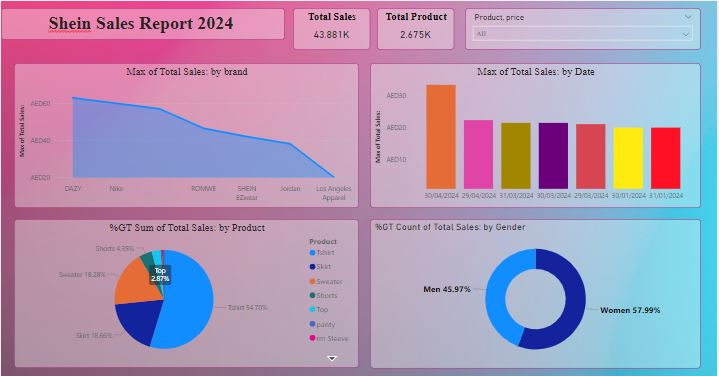

The dashboard page shown, as its layout file describes it:
{"tool":"powerbi","page":{"name":"Page 1","canvas":[1280,720],"ordinal":0},"visuals":[{"type":"clusteredColumnChart","fields":{"Y":["Max(Sheet1.Total Sales:)"],"Category":["Sheet1.Date"]},"box":[658.5,157.9,591.3,258.7],"z":0},{"type":"donutChart","fields":{"Y":["Sum(Sheet1.Total Sales:)"],"Category":["Sheet1.Gender"]},"box":[658.5,435.1,591.3,267.1],"z":1000},{"type":"pieChart","fields":{"Y":["Sum(Sheet1.Total Sales:)"],"Category":["Sheet1.Product"]},"box":[23.2,435.7,616.1,266.1],"z":2000},{"type":"card","title":"Total Product","fields":{"Values":["CountNonNull(Sheet1.Product)"]},"box":[671.4,58.9,137.5,75],"z":3000},{"type":"slicer","fields":{"Values":["Sheet1.Product","Sheet1.price"]},"box":[828.6,58.9,421.4,75],"z":4000},{"type":"areaChart","fields":{"Category":["Sheet1.brand"],"Y":["Max(Sheet1.Total Sales:)"]},"box":[23.2,157.1,616.1,258.9],"z":5000},{"type":"card","title":"Total Sales","fields":{"Values":["Sheet1.Overall Sales"]},"box":[521.4,58.9,137.5,75],"z":5001},{"type":"textbox","box":[0,58.9,507.1,57.1],"z":5002}]}

Visuals, with their boxes in screenshot pixels (x1, y1, x2, y2):
clusteredColumnChart - Max(Sheet1.Total Sales:) x Sheet1.Date: bbox=[369, 63, 696, 206]
donutChart - Sum(Sheet1.Total Sales:) x Sheet1.Gender: bbox=[369, 217, 696, 365]
pieChart - Sum(Sheet1.Total Sales:) x Sheet1.Product: bbox=[17, 217, 358, 365]
"Total Product" card: bbox=[376, 8, 452, 50]
slicer - Sheet1.Product x Sheet1.price: bbox=[463, 8, 696, 50]
areaChart - Sheet1.brand x Max(Sheet1.Total Sales:): bbox=[17, 63, 358, 206]
"Total Sales" card: bbox=[293, 8, 369, 50]
textbox: bbox=[4, 8, 285, 40]
